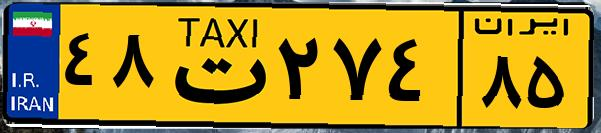2: (270, 28, 330, 110)
4: (385, 28, 445, 110), (57, 26, 110, 100)
5: (525, 38, 570, 115)
7: (330, 28, 385, 110)
8: (475, 38, 525, 113), (110, 28, 158, 98)
ت: (158, 12, 270, 120)
